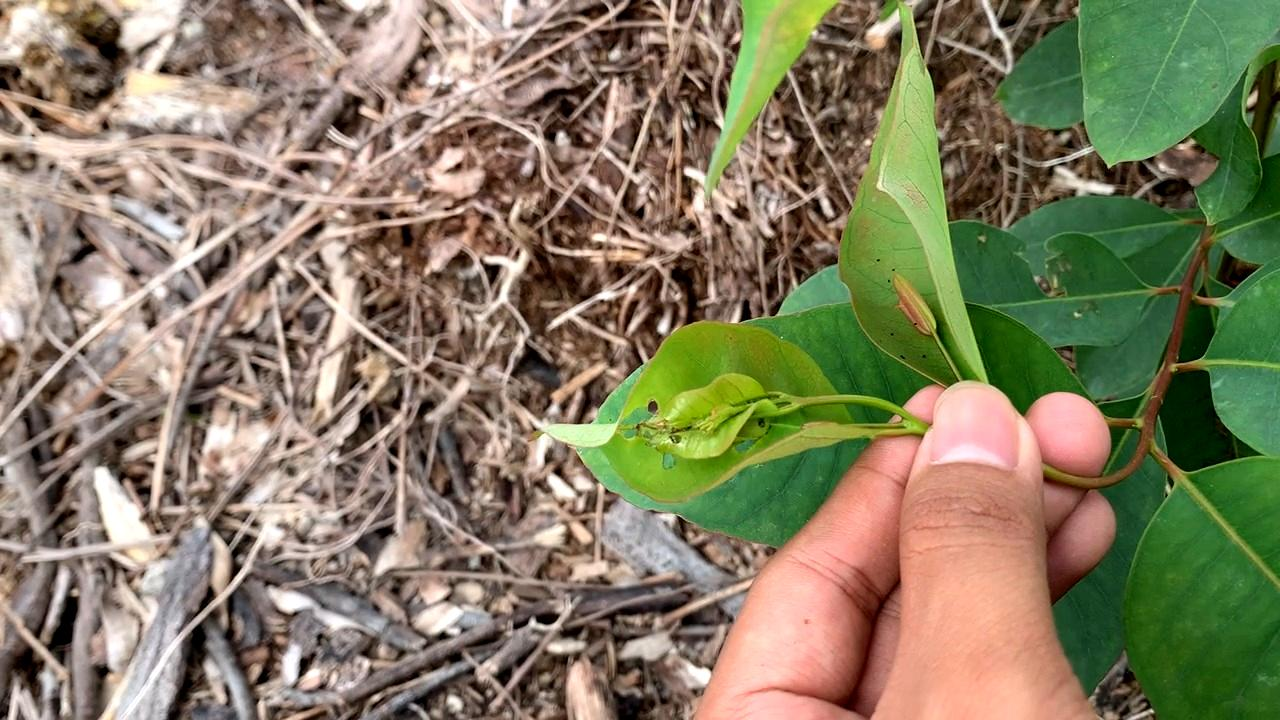Leaf Roller - Leaf: (558, 321, 851, 506)
